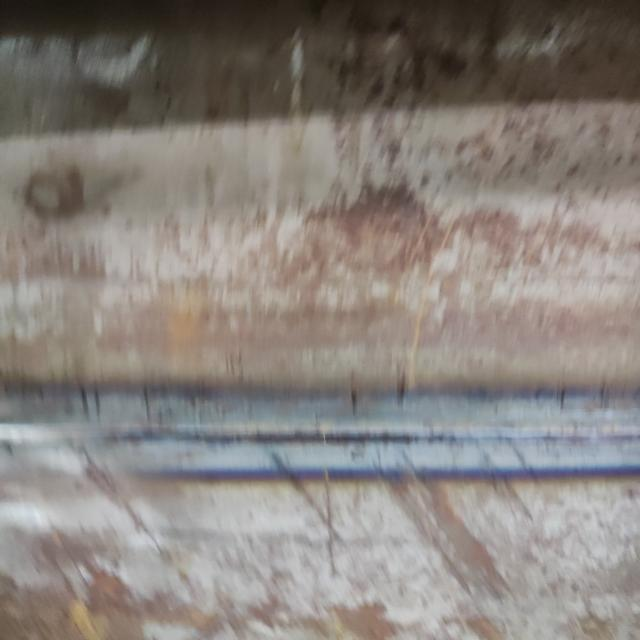seam: (0, 365, 640, 488)
